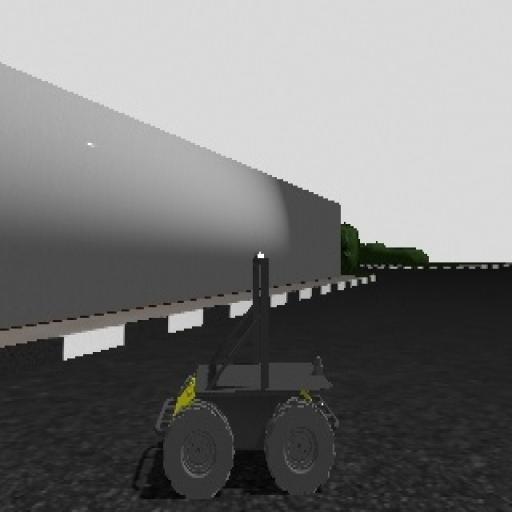huskya200: (134, 250, 358, 512)
